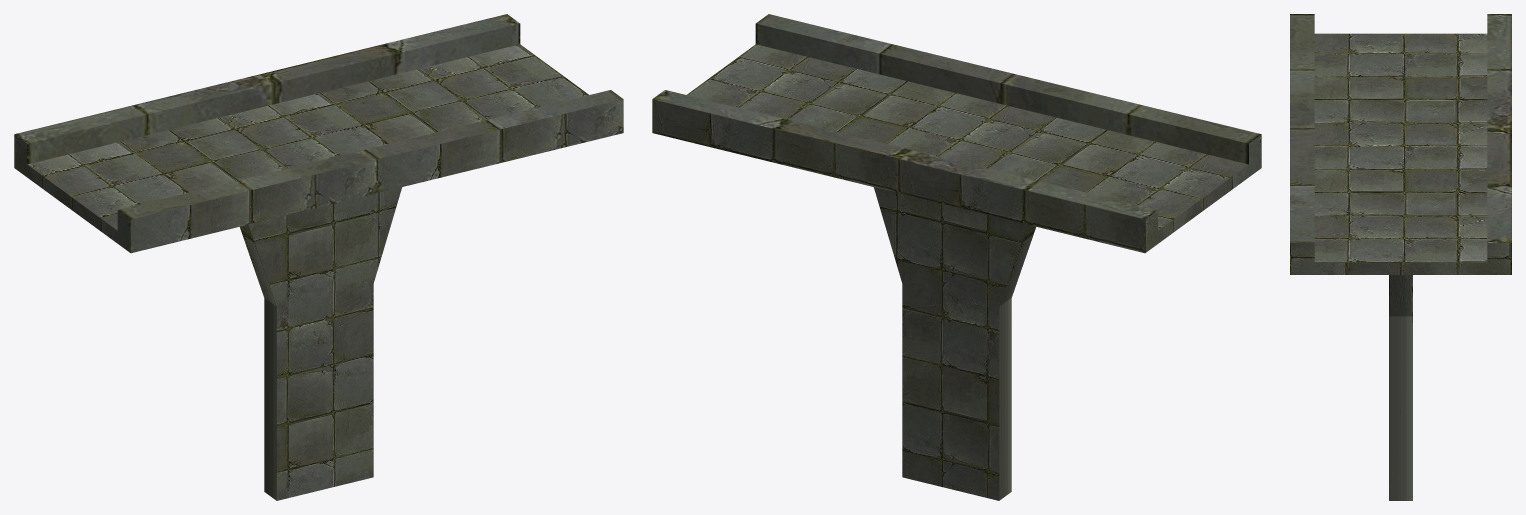
File: stone_bridge.fbx
3 renders of one model, left to right at view 1: azimuth 30°, elevation 25°; view 2: azimuth 150°, elevation 25°; view 3: azimuth 270°, elevation 25°, orthographic. The views are drawn at different scales.
Visible parts, largest first — view 1: bridge; view 2: bridge; view 3: bridge.
Part boxes in pixels (<box>): bridge: <box>14,14,623,500</box>; bridge: <box>652,14,1261,500</box>; bridge: <box>1290,14,1511,500</box>.
Size of the model in its own units: 2053 by 1464 by 841.
